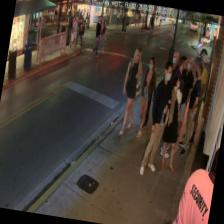person: (140, 60, 178, 177), (159, 54, 188, 158), (116, 46, 146, 138), (180, 52, 210, 144), (160, 78, 188, 172), (177, 63, 205, 156), (172, 54, 197, 144), (134, 55, 160, 137), (157, 51, 180, 139)
